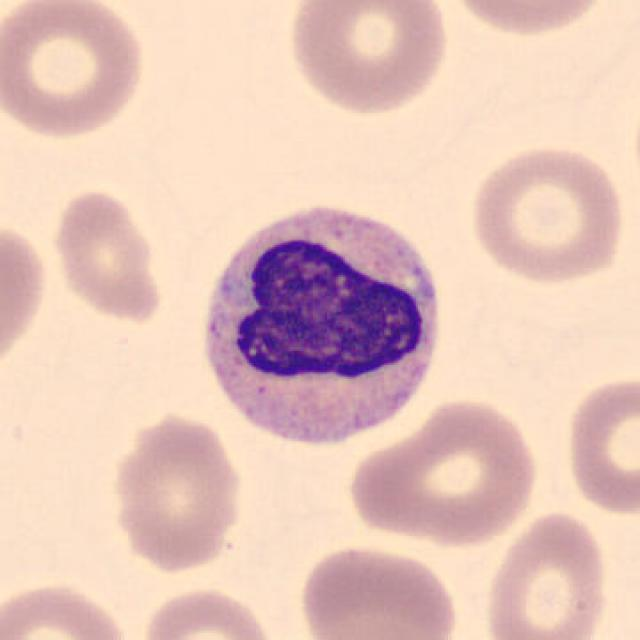Neutrophil: (189, 192, 455, 464)
RBC: (341, 393, 546, 548), (464, 140, 629, 288), (107, 407, 249, 575), (0, 0, 151, 143), (281, 0, 455, 118), (46, 185, 169, 328), (480, 508, 613, 640), (293, 539, 462, 640), (560, 369, 638, 520), (0, 215, 53, 379), (1, 576, 135, 640), (137, 583, 279, 640), (437, 0, 615, 41)
